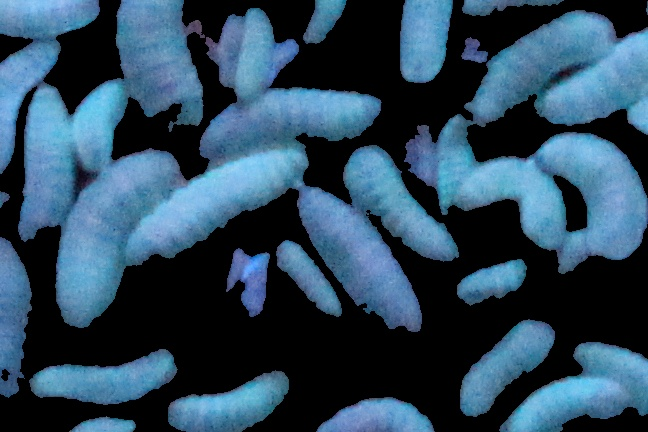larvae: (125, 142, 309, 266), (54, 150, 180, 326), (300, 189, 422, 332), (472, 11, 617, 126), (538, 132, 647, 269), (200, 91, 382, 160), (347, 149, 456, 263), (113, 1, 203, 131), (535, 32, 648, 128), (456, 231, 586, 303), (461, 318, 556, 415), (17, 83, 72, 236), (1, 39, 60, 181), (28, 352, 174, 408), (469, 158, 562, 239), (170, 371, 288, 429), (502, 378, 625, 432), (572, 341, 648, 420), (1, 237, 31, 394), (278, 242, 338, 320), (401, 1, 452, 88), (314, 395, 432, 432), (1, 1, 100, 40), (437, 117, 475, 213), (80, 75, 119, 168), (238, 8, 276, 94), (218, 12, 245, 89)
